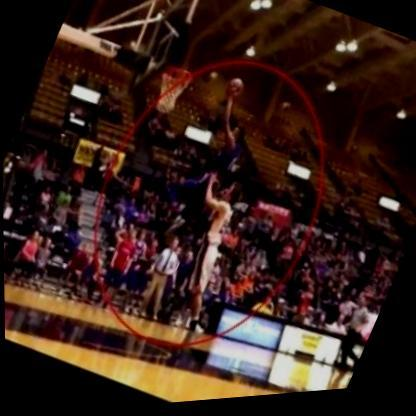basketball: (222, 72, 248, 101)
